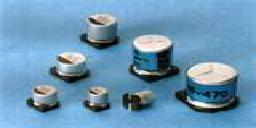Electrolytic-capacitor: (179, 58, 243, 111), (129, 33, 178, 82), (76, 14, 123, 51), (48, 49, 94, 83), (26, 82, 63, 114)
